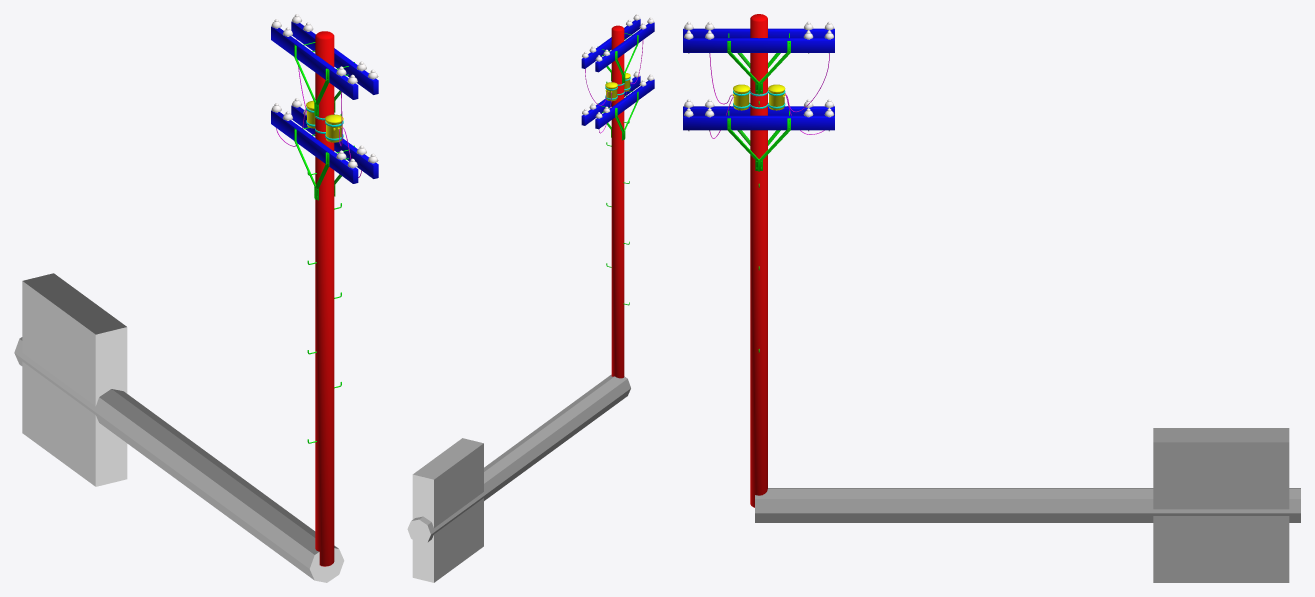
The model's file is SM_Electric_Pole_01.fbx.
The picture shows the model from 3 angles, left to right: view 1: azimuth 30°, elevation 25°; view 2: azimuth 150°, elevation 25°; view 3: azimuth 270°, elevation 25°; orthographic projection. The views are drawn at different scales.
Visible parts, largest first — view 1: SM_Electric_Pole_01_ConvexHulls, SM_Electric_Pole_01_LOD0; view 2: SM_Electric_Pole_01_ConvexHulls, SM_Electric_Pole_01_LOD0; view 3: SM_Electric_Pole_01_ConvexHulls, SM_Electric_Pole_01_LOD0.
Boxes of the visible parts, box(x1,y1,x2,y2) form: SM_Electric_Pole_01_ConvexHulls: box(14, 273, 344, 582); SM_Electric_Pole_01_LOD0: box(271, 14, 378, 566); SM_Electric_Pole_01_ConvexHulls: box(407, 374, 630, 582); SM_Electric_Pole_01_LOD0: box(581, 14, 654, 378); SM_Electric_Pole_01_ConvexHulls: box(755, 428, 1300, 582); SM_Electric_Pole_01_LOD0: box(683, 14, 834, 507).
Bounding box in the file's own units: 54.9 × 917 × 915.
